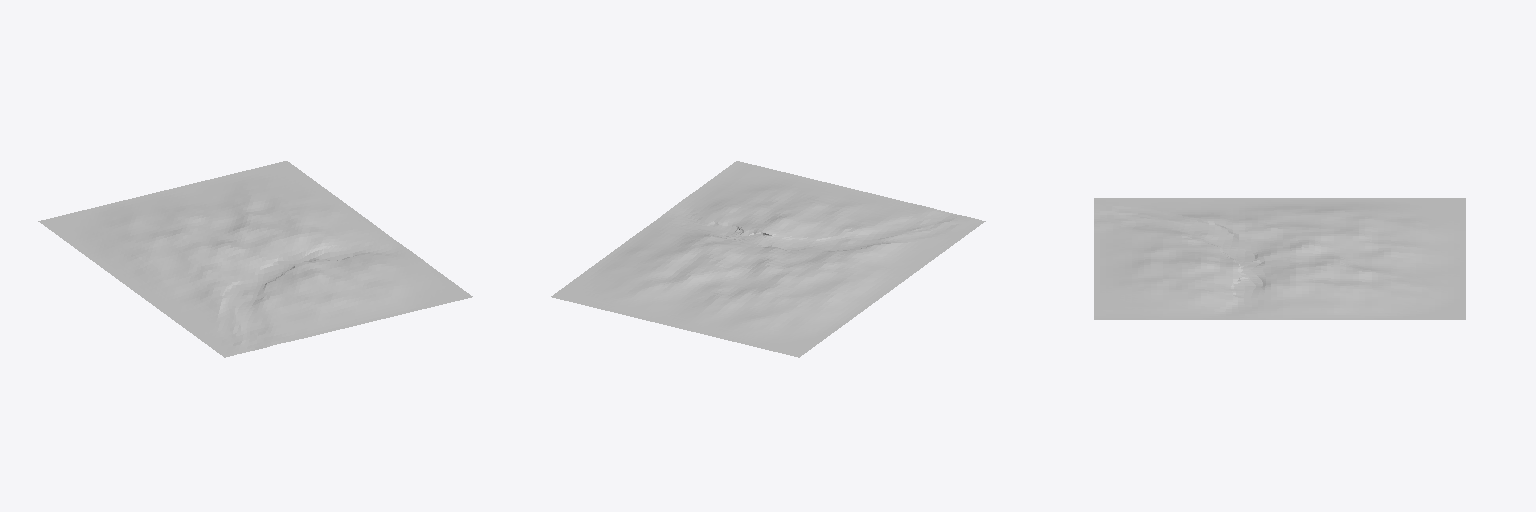
The model's file is terrain_grid.obj.
3 views of the same model, side by side, from view 1: azimuth 30°, elevation 25°; view 2: azimuth 150°, elevation 25°; view 3: azimuth 270°, elevation 25° (orthographic).
Parts seen in each view (by area): view 1: Landscape_Material.001; view 2: Landscape_Material.001; view 3: Landscape_Material.001.
Part boxes in pixels (x1,y1,x2,y2): Landscape_Material.001: (38,161,472,357); Landscape_Material.001: (551,161,985,357); Landscape_Material.001: (1094,198,1465,319).
Size of the model in its own units: 32.33 by 0.9416 by 41.93.